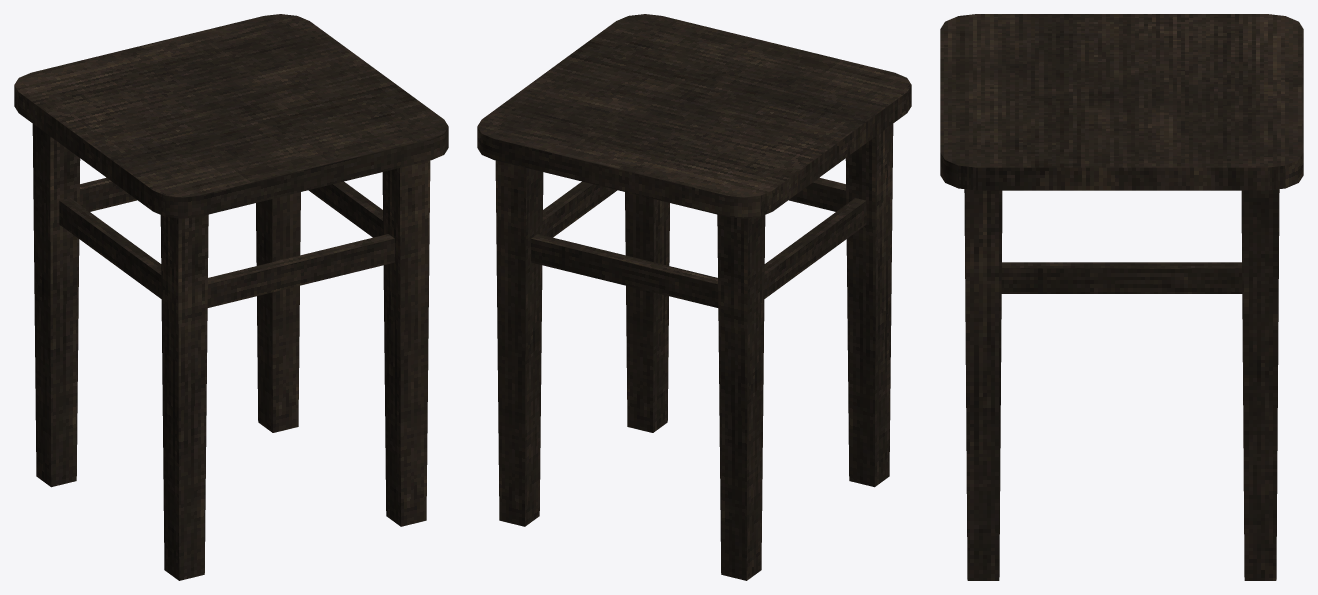
File: chair_mp_2_2.glb
3 views of the same model, side by side, from view 1: azimuth 30°, elevation 25°; view 2: azimuth 150°, elevation 25°; view 3: azimuth 270°, elevation 25° (orthographic). The views are drawn at different scales.
Parts seen in each view (by area): view 1: chair_mp_2_2; view 2: chair_mp_2_2; view 3: chair_mp_2_2.
Boxes of the visible parts, left/top/right/bottom form: chair_mp_2_2: left=14, top=14, right=448, bottom=580; chair_mp_2_2: left=477, top=14, right=911, bottom=580; chair_mp_2_2: left=940, top=14, right=1303, bottom=580.
Bounding box in the file's own units: 0.4607 × 0.594 × 0.4607.
1 material, 1 textured.
